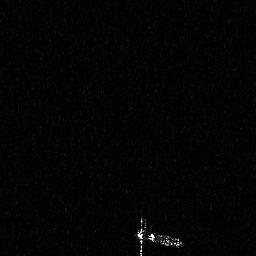ship: (136, 214, 185, 256)
